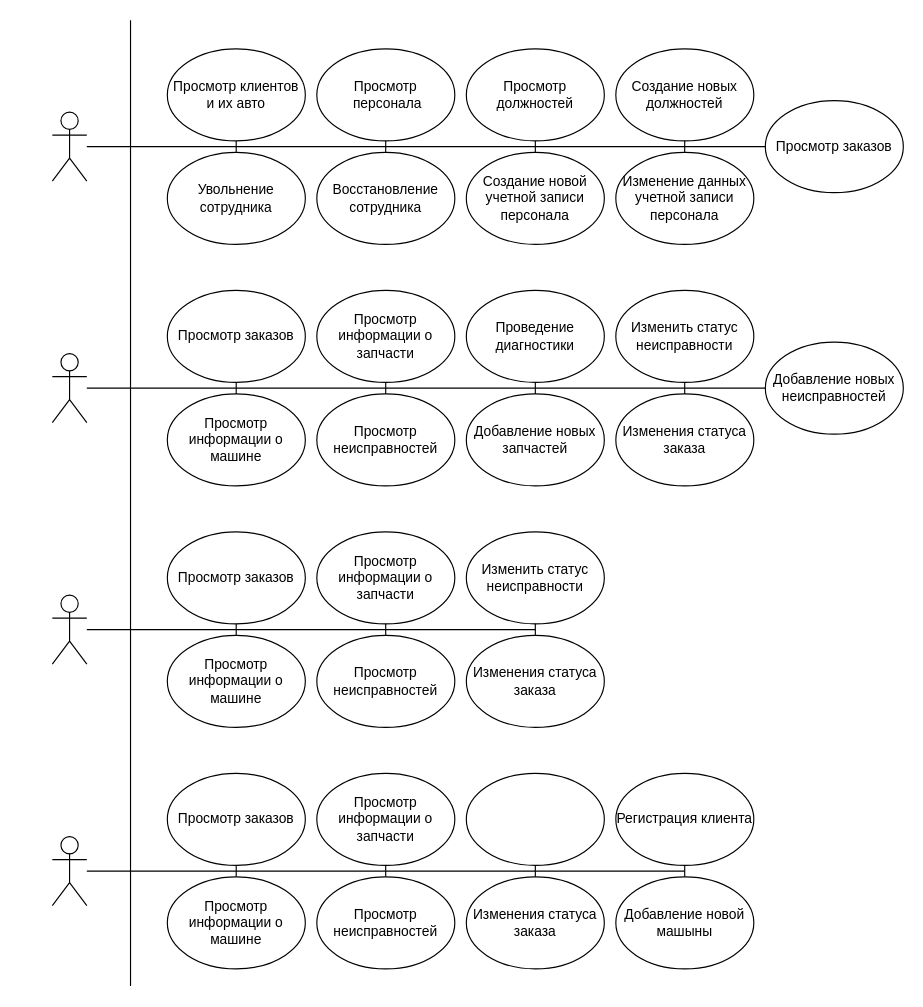
The diagram is 923 pixels wide and 1007 high, and some of its shapes have lost their labels. The centre of each missing label's shape, as x and y in pixels:
"Администратор" goes at point (69, 146).
"Мастер" goes at point (69, 387).
"Менеджер" goes at point (69, 870).
"Работник" goes at point (69, 629).
"Создание нового заказа" goes at point (534, 818).
